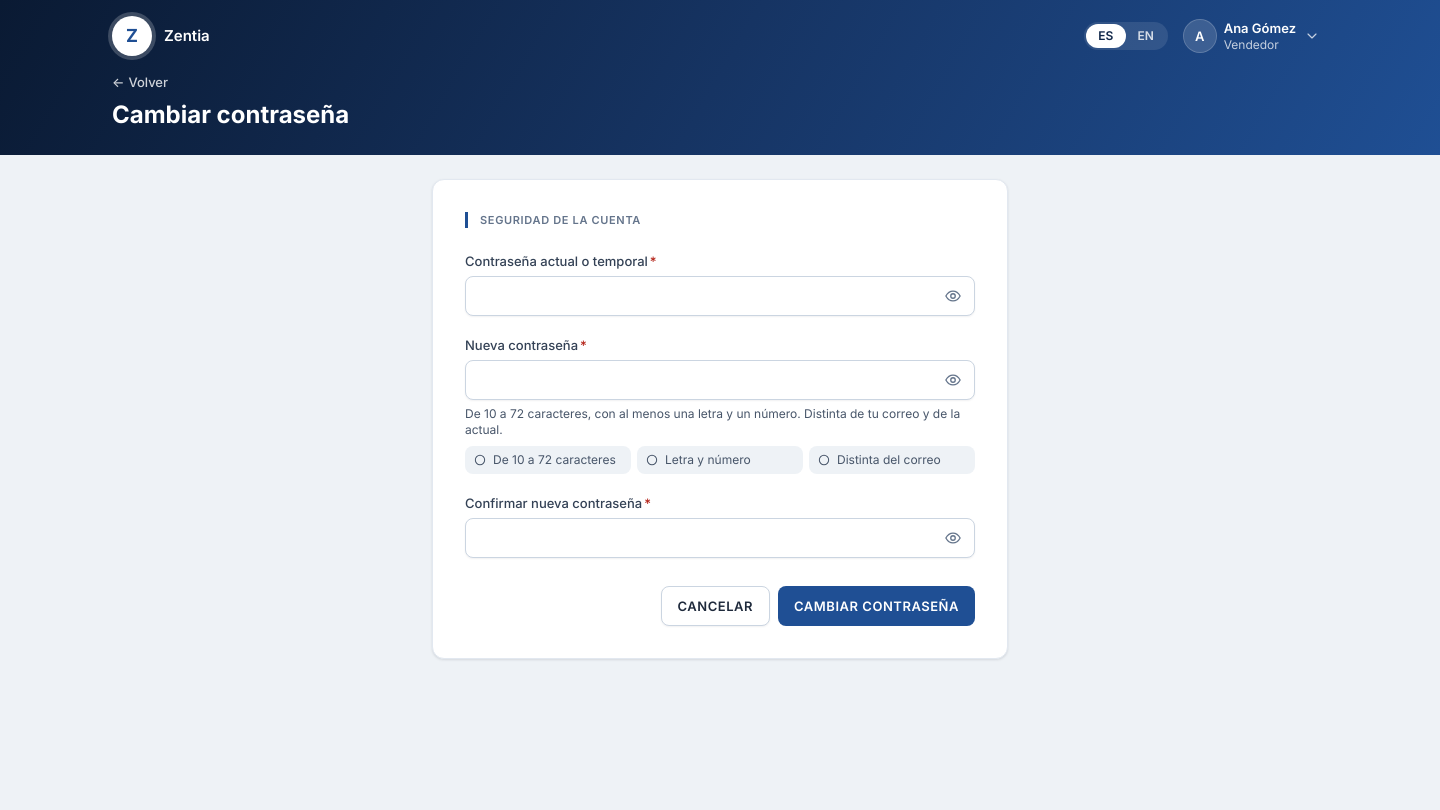
Test: ChangePasswordPage › maps INVALID_CURRENT_PASSWORD to the current password field
Type "mala123456" into the password field labelled "Contraseña actual o temporal*" at (720, 296), box [465,276,975,316]
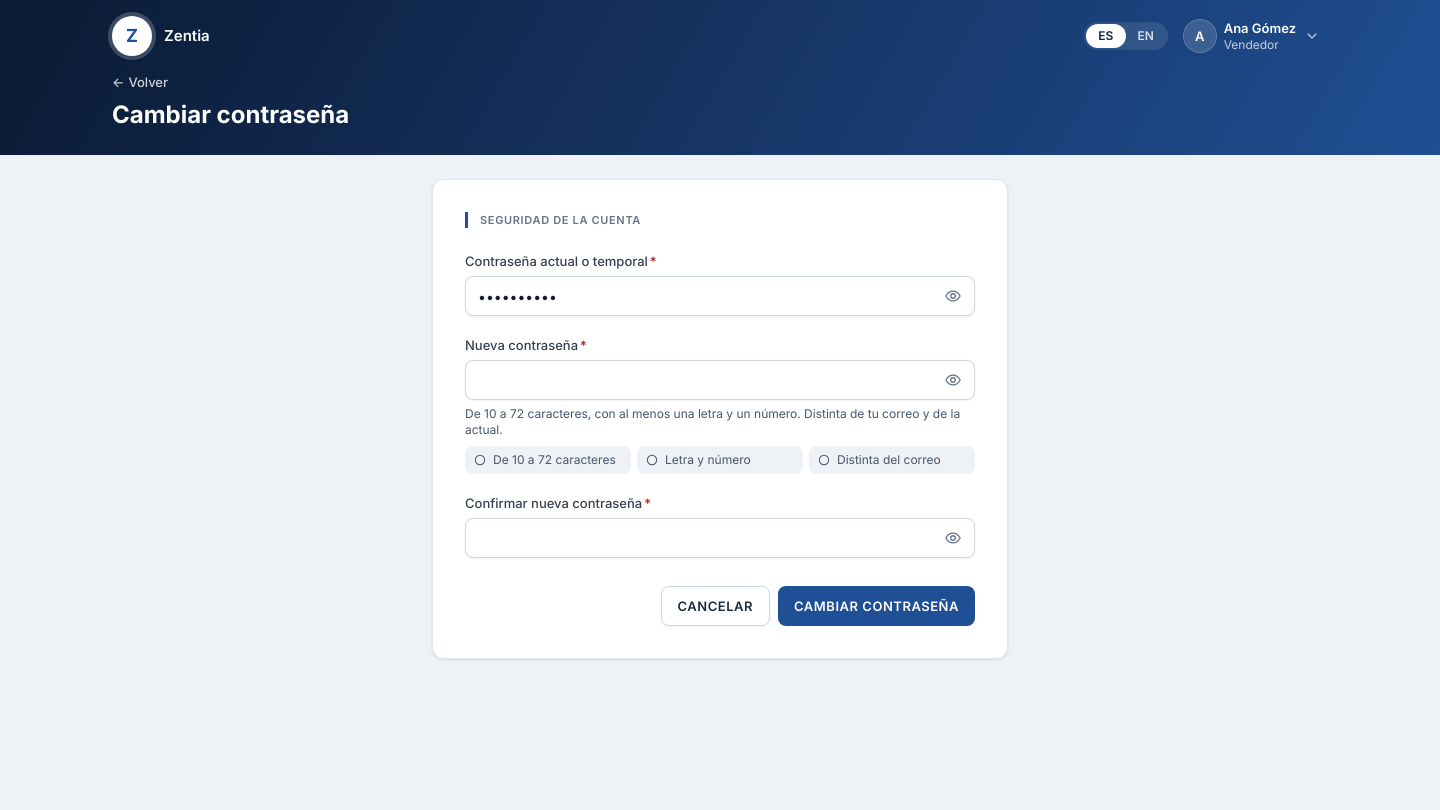
Type "nueva2026xy" into the password field labelled "Nueva contraseña*" at (720, 380), box [465,360,975,400]
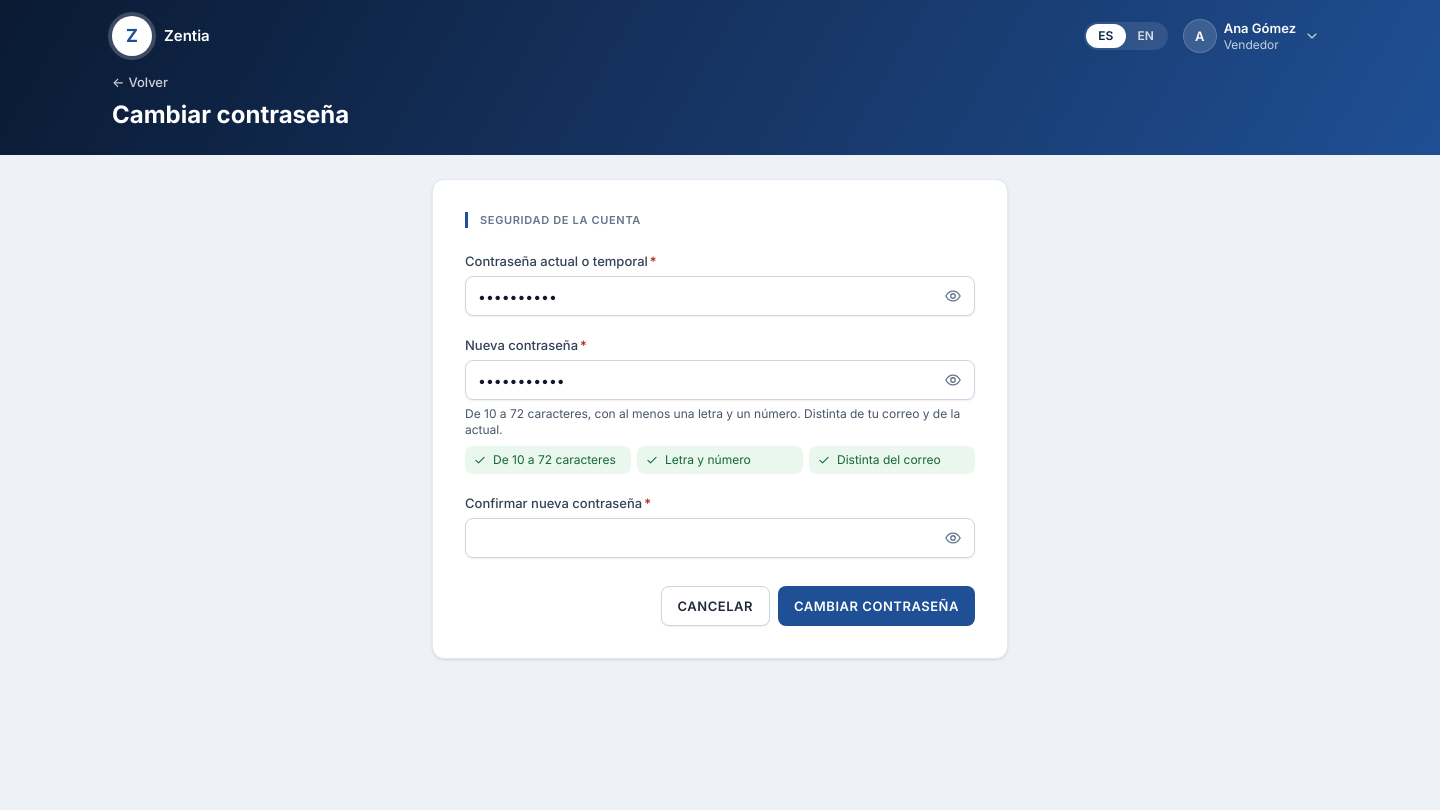
Type "nueva2026xy" into the password field labelled "Confirmar nueva contraseña*" at (720, 538), box [465,518,975,558]
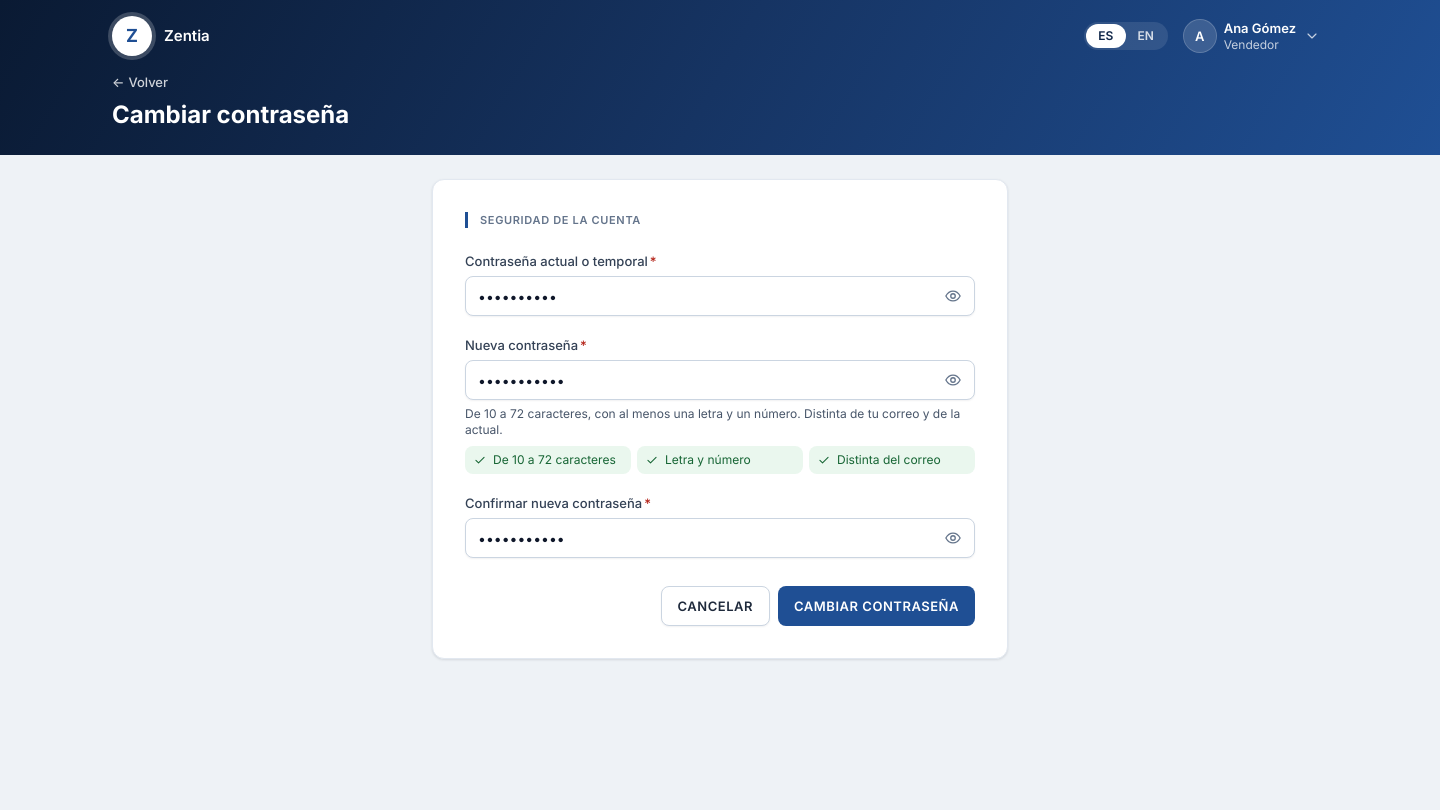
Click the button "Cambiar contraseña" at (877, 606), box [778,586,975,626]
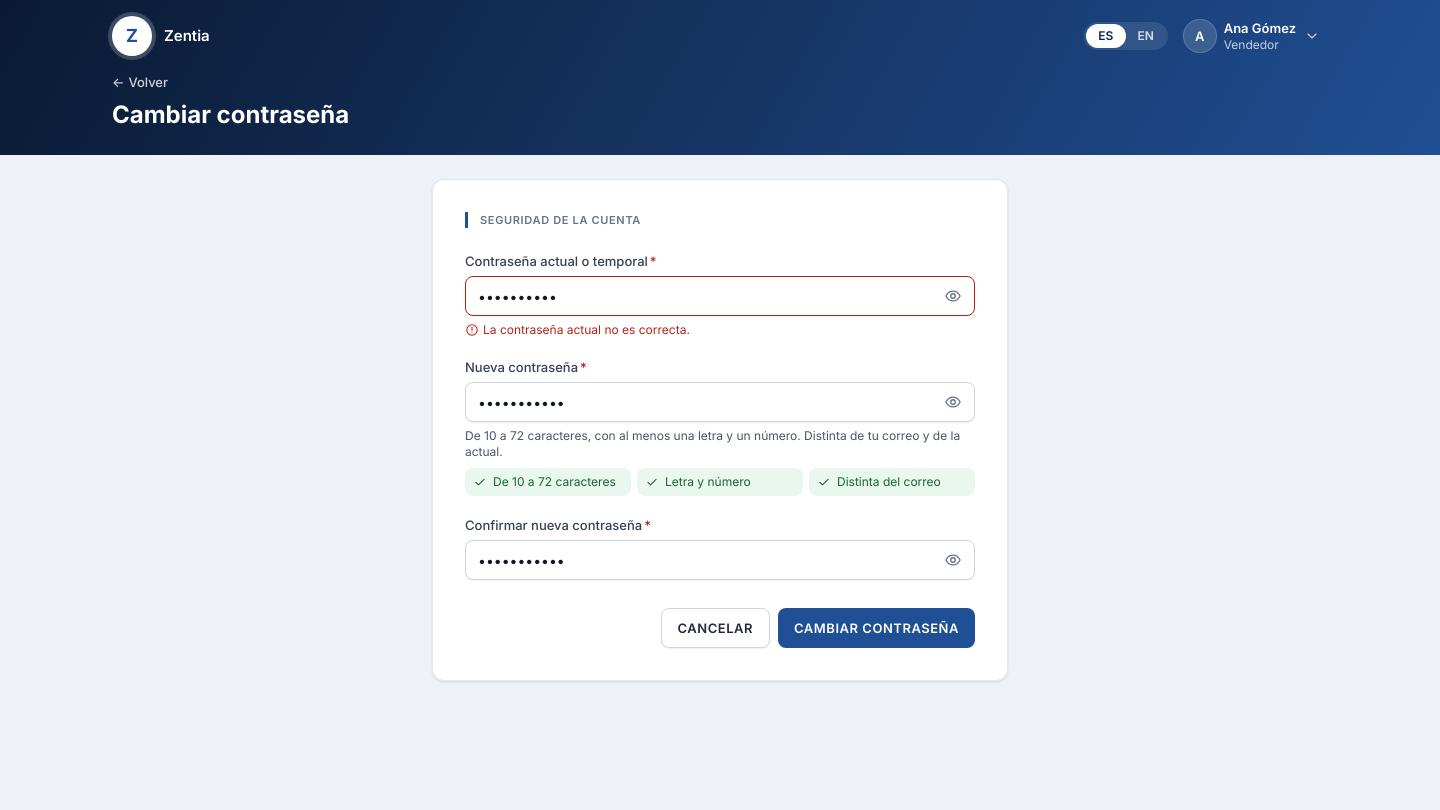
Now the text "La contraseña actual no es correcta." is shown, box [465,322,690,337]
